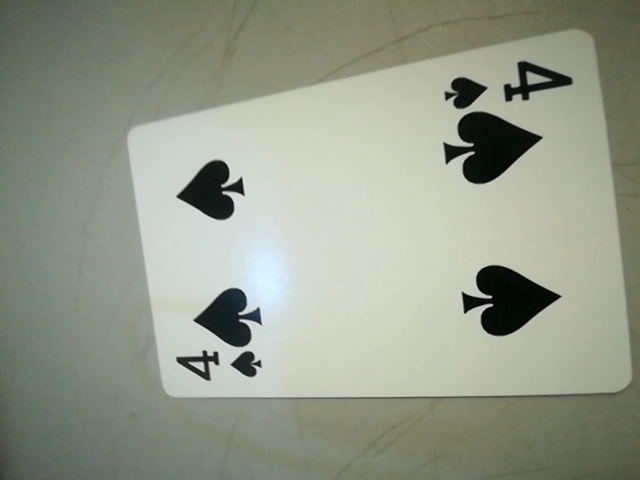ht 4: (435, 57, 574, 115)
